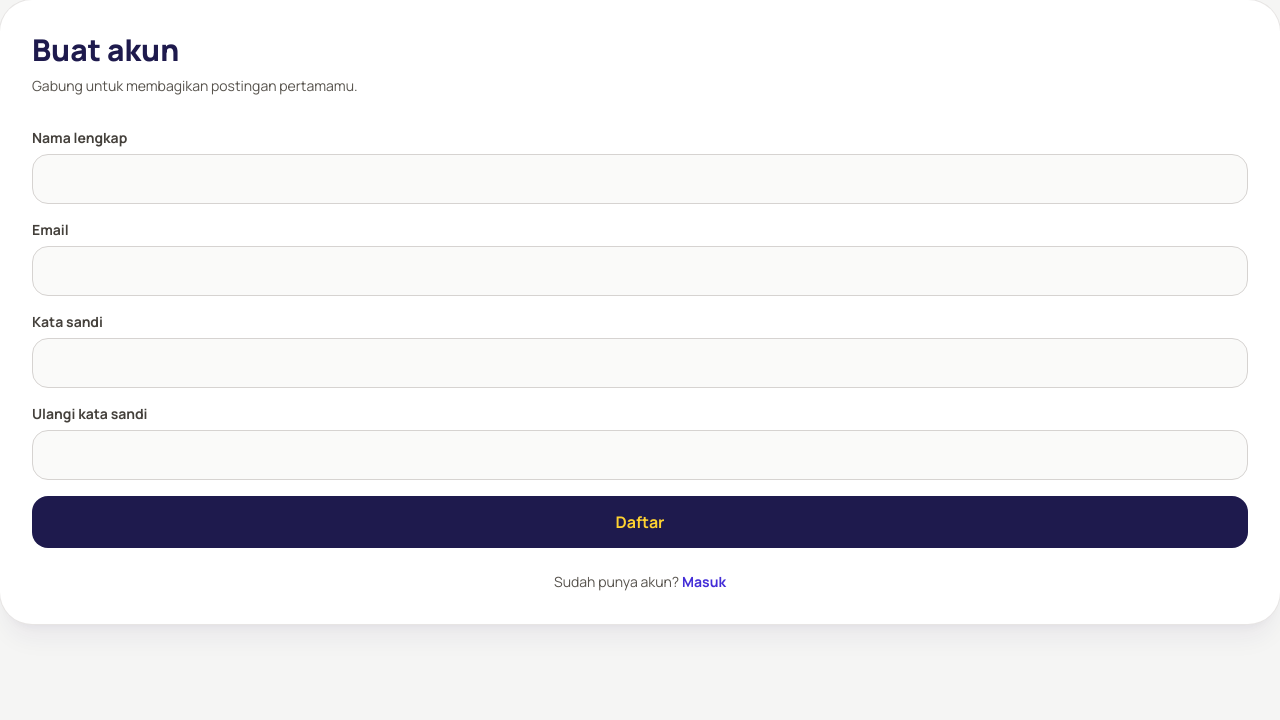
Test: RegisterPage › menolak konfirmasi kata sandi yang berbeda
Type "  Budi Santoso " into the field labelled "Nama lengkap" at {"x": 640, "y": 179}, box 32,154 -> 1248,204
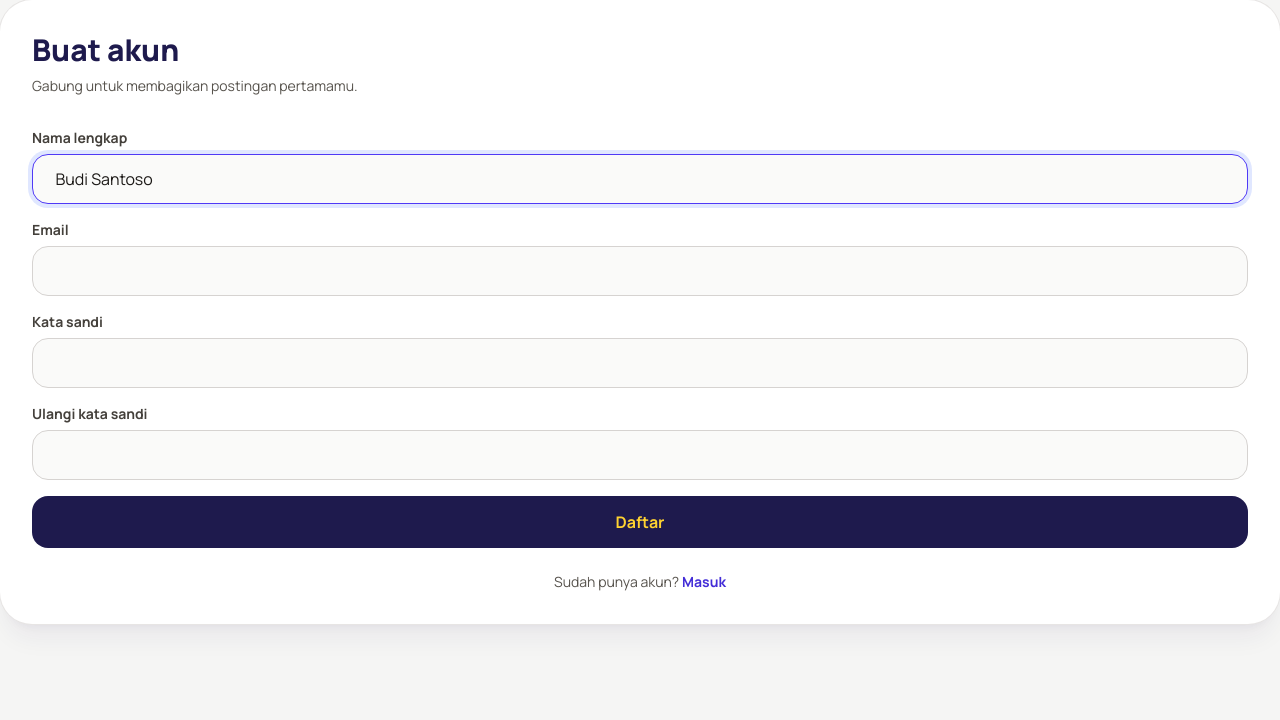
Type "budi@mail.id" into the field labelled "Email" at {"x": 640, "y": 271}, box 32,246 -> 1248,296
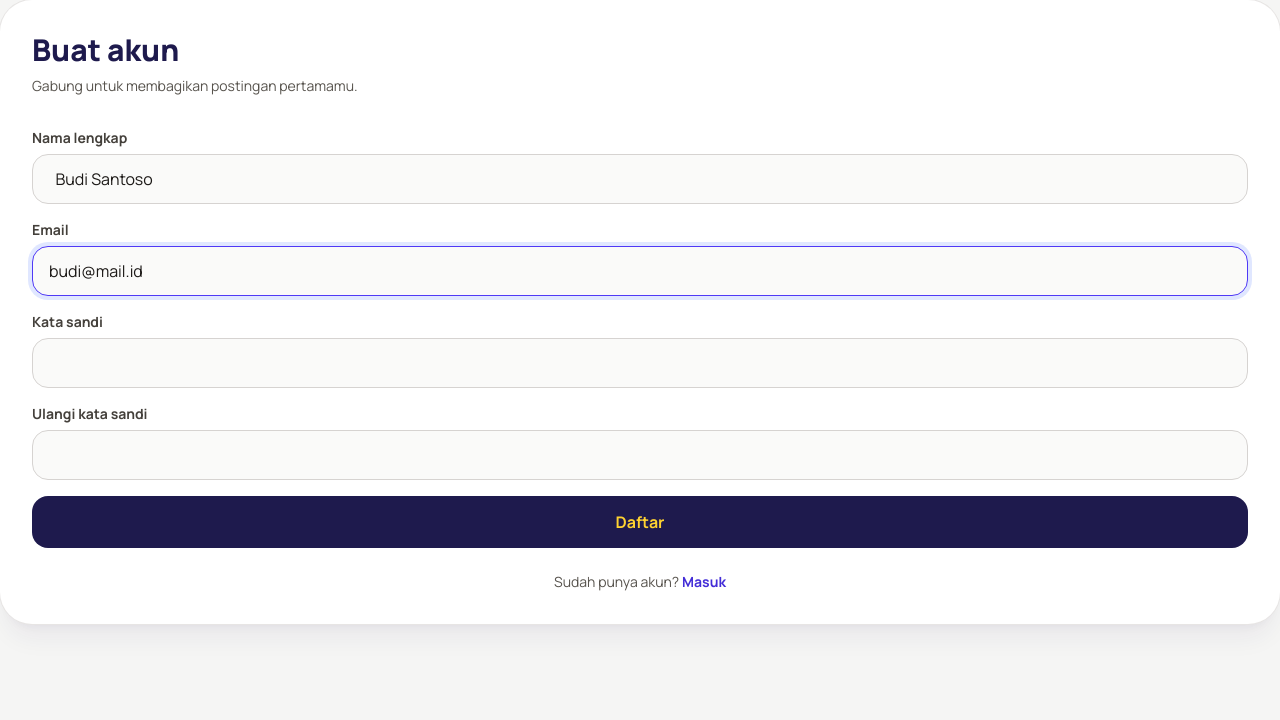
Type "rahasia1" into the password field labelled "Kata sandi" at {"x": 640, "y": 363}, box 32,338 -> 1248,388
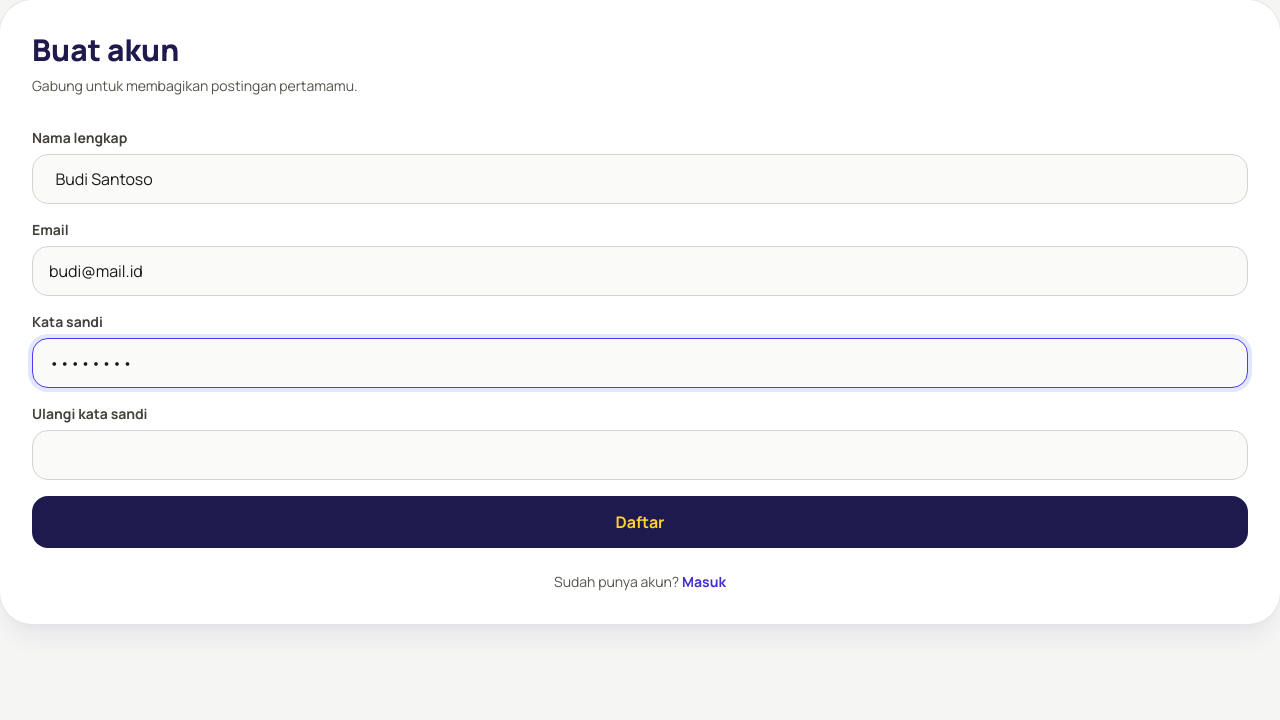
Type "beda1234" into the password field labelled "Ulangi kata sandi" at {"x": 640, "y": 455}, box 32,430 -> 1248,480
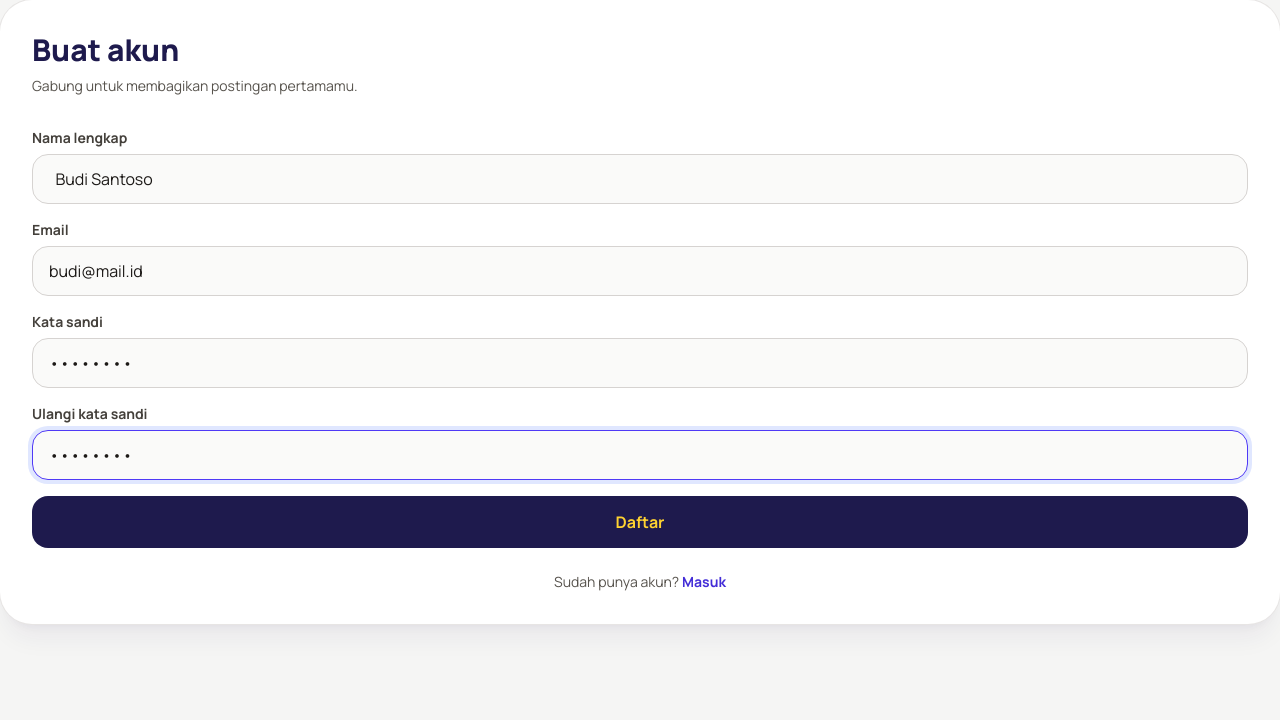
Click the button "Daftar" at {"x": 640, "y": 522}, box 32,496 -> 1248,548
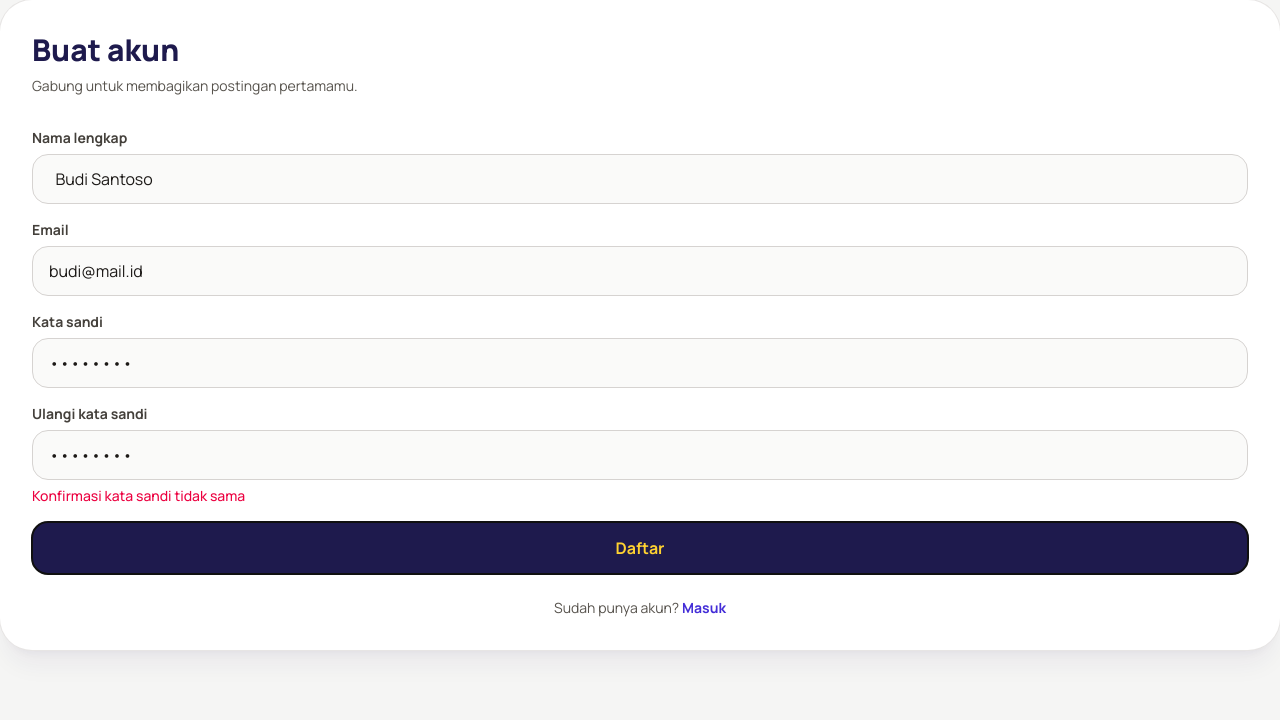
expect the text "Konfirmasi kata sandi tidak sama" is shown: met, box 32,486 -> 245,505
